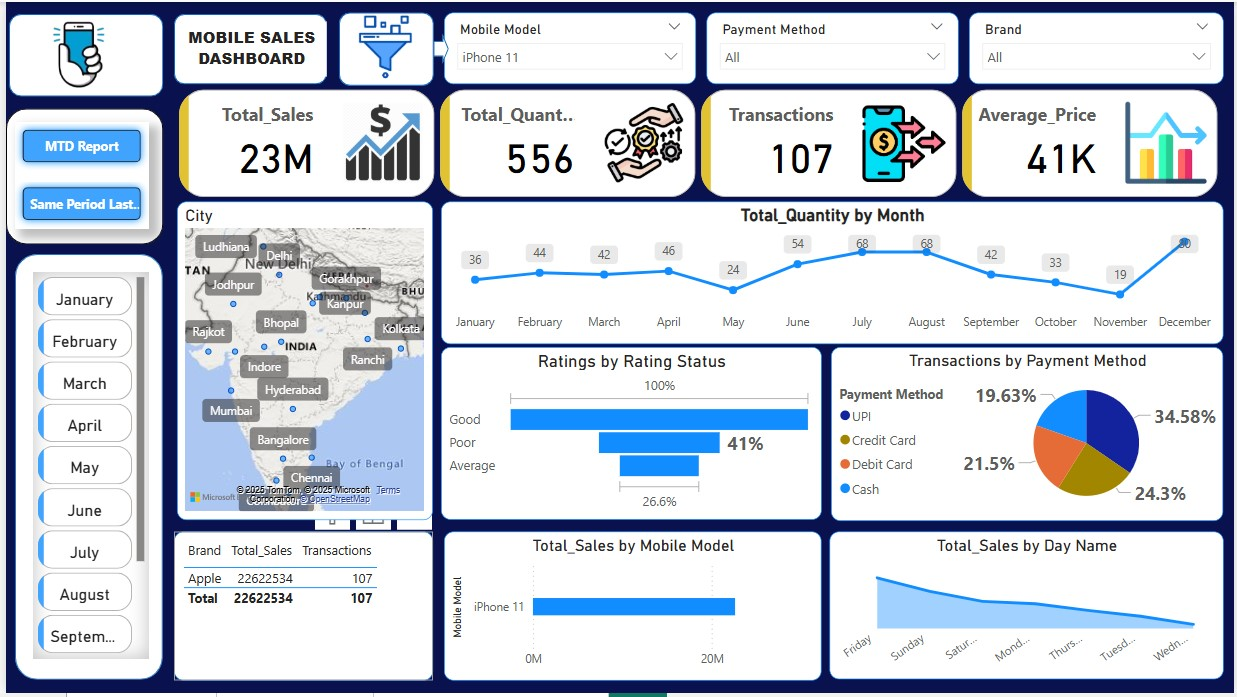

This screenshot's page, from the dashboard's own definition file:
{"tool":"powerbi","page":{"name":"Dashboard","canvas":[1280,720],"ordinal":0},"visuals":[{"type":"shape","box":[3.2,12.7,160.7,85.9],"z":0},{"type":"shape","box":[10.1,263.3,153.9,443.5],"z":1000},{"type":"image","box":[14.3,8,122.5,90.7],"z":2000},{"type":"shape","box":[0,111.3,163.8,141.6],"z":3000},{"type":"advancedSlicerVisual","fields":{"Values":["Custom_Calendar.Date.Variation.Date Hierarchy.Month"]},"box":[28.4,281.5,121.5,403],"z":4000},{"type":"cardVisual","fields":{"Data":["Mobile_Sales_Data.Total_Sales","Mobile_Sales_Data.Total_Quantity","Mobile_Sales_Data.Transactions","Mobile_Sales_Data.Average_Price"]},"box":[175,85.9,1094.3,122.5],"z":5000},{"type":"slicer","fields":{"Values":["Mobile_Sales_Data.Mobile Model"]},"box":[456.5,11.1,262.5,74.8],"z":6000},{"type":"slicer","fields":{"Values":["Mobile_Sales_Data.Payment Method"]},"box":[730.1,11.1,262.5,74.8],"z":7000},{"type":"slicer","fields":{"Values":["Mobile_Sales_Data.Brand"]},"box":[1003.7,11.1,265.6,74.8],"z":8000},{"type":"shape","box":[346.8,11.1,98.6,76.3],"z":9000},{"type":"image","box":[211.6,8,369,77.9],"z":10000},{"type":"shape","box":[445.4,33.4,15.9,31.8],"z":11000},{"type":"shape","box":[175,12.7,159.1,73.2],"z":12000},{"type":"textbox","box":[178.1,20.7,155.9,57.3],"z":13000},{"type":"lineChart","fields":{"Y":["Mobile_Sales_Data.Total_Quantity"],"Category":["Custom_Calendar.Date.Variation.Date Hierarchy.Month"]},"box":[453.3,208.3,815,148.3],"z":14000},{"type":"funnel","title":"Ratings by Rating Status","fields":{"Y":["CountNonNull(Mobile_Sales_Data.Customer Ratings)"],"Category":["Mobile_Sales_Data.Rating Status"]},"box":[453.3,360,396.7,180],"z":15000},{"type":"pieChart","fields":{"Category":["Mobile_Sales_Data.Payment Method"],"Y":["Mobile_Sales_Data.Transactions"]},"box":[858.9,359.5,408.8,181.3],"z":16000},{"type":"clusteredBarChart","fields":{"Y":["Mobile_Sales_Data.Total_Sales"],"Category":["Mobile_Sales_Data.Mobile Model"]},"box":[456.7,551.7,393.3,155],"z":17000},{"type":"areaChart","fields":{"Y":["Mobile_Sales_Data.Total_Sales"],"Category":["Custom_Calendar.Day Name"]},"box":[857.3,551.9,410.4,154.3],"z":18000},{"type":"tableEx","fields":{"Values":["Mobile_Sales_Data.Brand","Mobile_Sales_Data.Total_Sales","Mobile_Sales_Data.Transactions"]},"box":[175,551.7,270,155],"z":19000},{"type":"pageNavigator","box":[10.1,125.6,139.7,111.4],"z":20000},{"type":"map","fields":{"Category":["Mobile_Sales_Data.City"]},"box":[178.3,208.3,266.7,331.7],"z":21000}]}

Visuals, with their boxes in screenshot pixels (x1, y1, x2, y2), scaled from the page's 1280x720 canvas onto the 1237x697 screenshot:
shape: select_region(3, 12, 158, 95)
shape: select_region(10, 255, 158, 684)
image: select_region(14, 8, 132, 96)
shape: select_region(0, 108, 158, 245)
advancedSlicerVisual - Custom_Calendar.Date.Variation.Date Hierarchy.Month: select_region(27, 273, 145, 663)
cardVisual - Mobile_Sales_Data.Total_Sales x Mobile_Sales_Data.Total_Quantity: select_region(169, 83, 1227, 202)
slicer - Mobile_Sales_Data.Mobile Model: select_region(441, 11, 695, 83)
slicer - Mobile_Sales_Data.Payment Method: select_region(706, 11, 959, 83)
slicer - Mobile_Sales_Data.Brand: select_region(970, 11, 1227, 83)
shape: select_region(335, 11, 430, 85)
image: select_region(204, 8, 561, 83)
shape: select_region(430, 32, 446, 63)
shape: select_region(169, 12, 323, 83)
textbox: select_region(172, 20, 323, 76)
lineChart - Mobile_Sales_Data.Total_Quantity x Custom_Calendar.Date.Variation.Date Hierarchy.Month: select_region(438, 202, 1226, 345)
"Ratings by Rating Status" funnel: select_region(438, 348, 821, 523)
pieChart - Mobile_Sales_Data.Payment Method x Mobile_Sales_Data.Transactions: select_region(830, 348, 1225, 524)
clusteredBarChart - Mobile_Sales_Data.Total_Sales x Mobile_Sales_Data.Mobile Model: select_region(441, 534, 821, 684)
areaChart - Mobile_Sales_Data.Total_Sales x Custom_Calendar.Day Name: select_region(829, 534, 1225, 684)
tableEx - Mobile_Sales_Data.Brand x Mobile_Sales_Data.Total_Sales: select_region(169, 534, 430, 684)
pageNavigator: select_region(10, 122, 145, 229)
map - Mobile_Sales_Data.City: select_region(172, 202, 430, 523)
